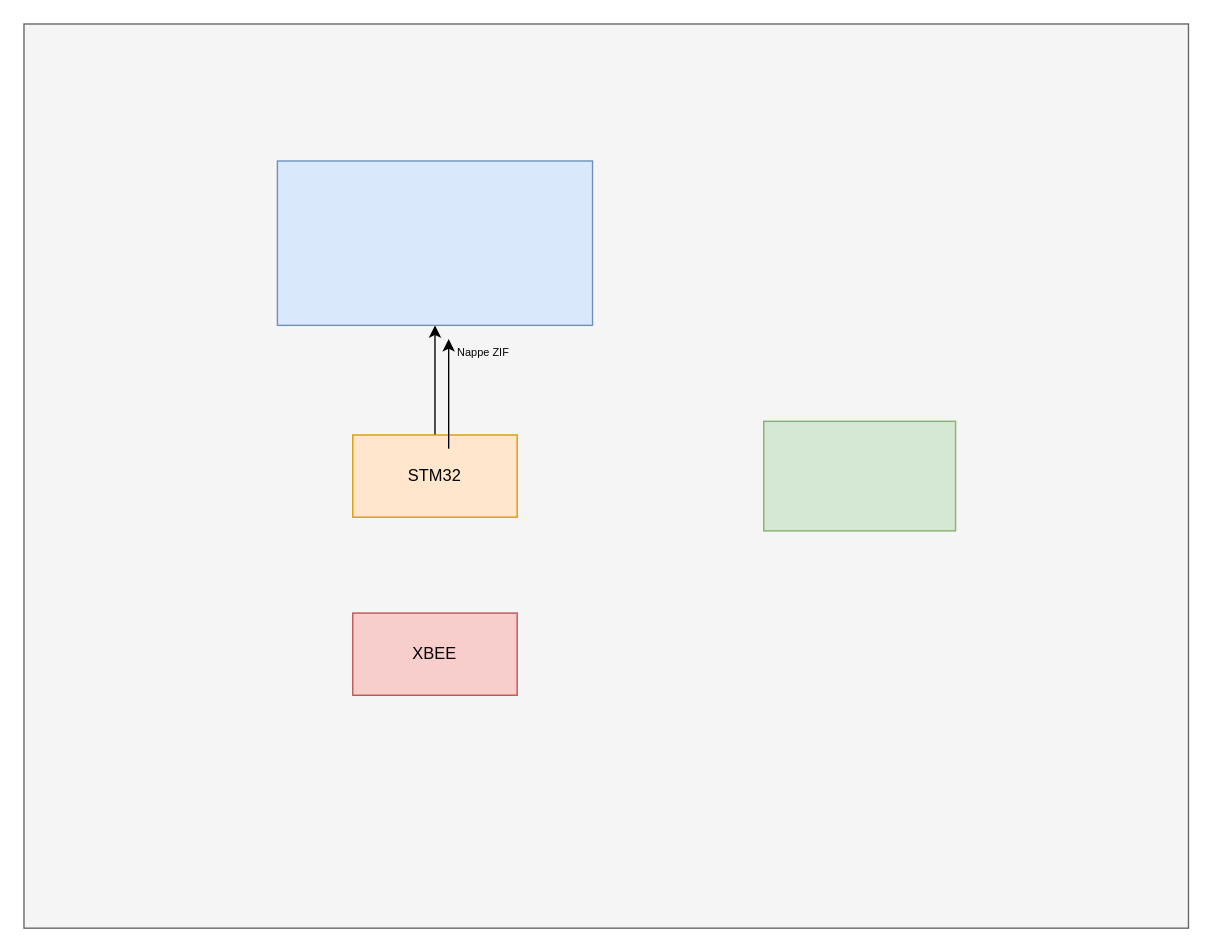
This 1212x952 diagram has some shape labels left out. The centre of each missing label's shape, as x and y in pixels:
ECRAN: (434,242)
SERVEUR PYTHON: (859,475)
